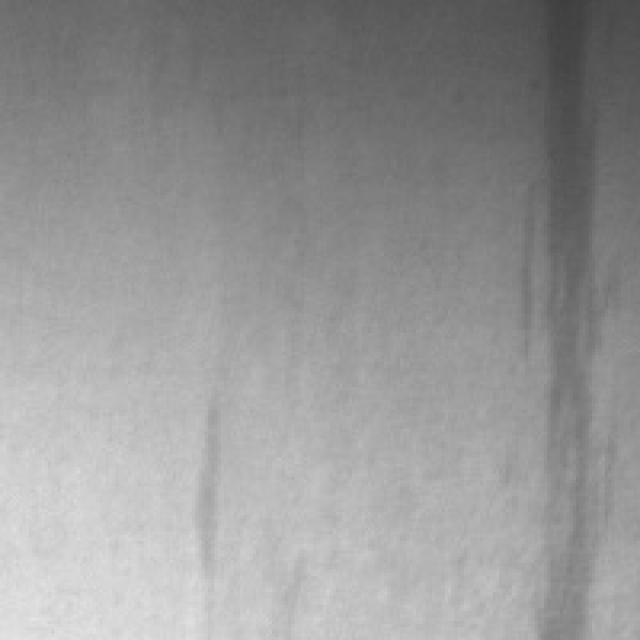inclusion: (511, 0, 614, 630), (172, 387, 250, 605)
